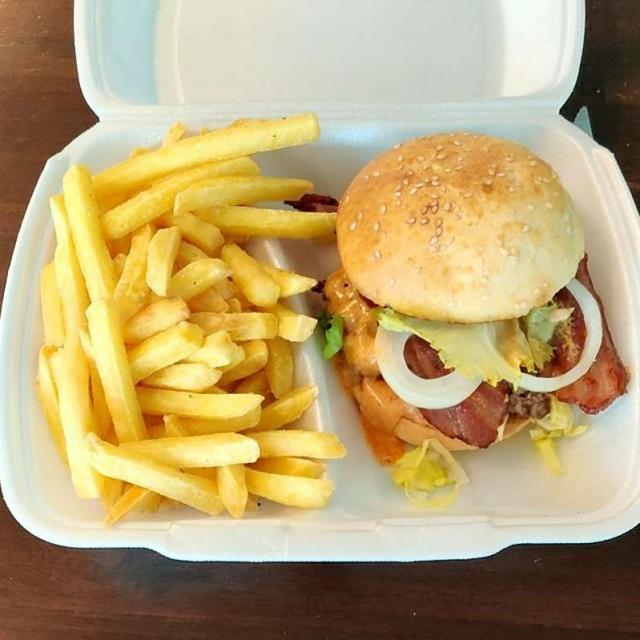bacon: (426, 303, 613, 453)
cheese: (322, 271, 381, 368)
chips-french-fries: (39, 117, 334, 515)
hamburger: (323, 137, 623, 495)
onion: (368, 290, 602, 419)
